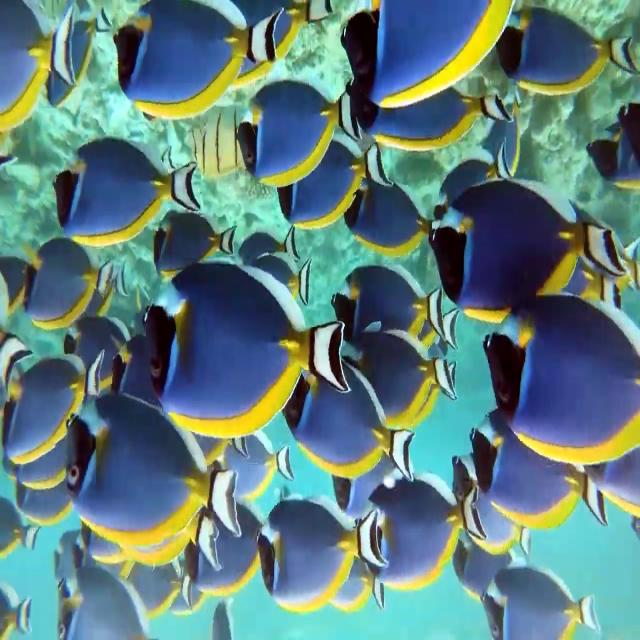fish: (147, 258, 346, 440), (481, 290, 640, 467), (66, 392, 238, 550), (428, 182, 620, 319), (112, 0, 280, 122), (342, 0, 516, 111), (468, 412, 606, 528), (360, 468, 486, 594), (52, 137, 196, 246), (294, 357, 412, 482), (235, 77, 362, 191), (258, 500, 386, 612), (346, 70, 512, 150), (336, 328, 454, 434), (0, 356, 104, 466), (498, 12, 640, 92), (332, 266, 444, 354), (278, 139, 382, 230), (330, 172, 442, 252), (19, 238, 108, 332), (484, 572, 602, 640), (451, 460, 528, 564), (221, 430, 293, 508)
